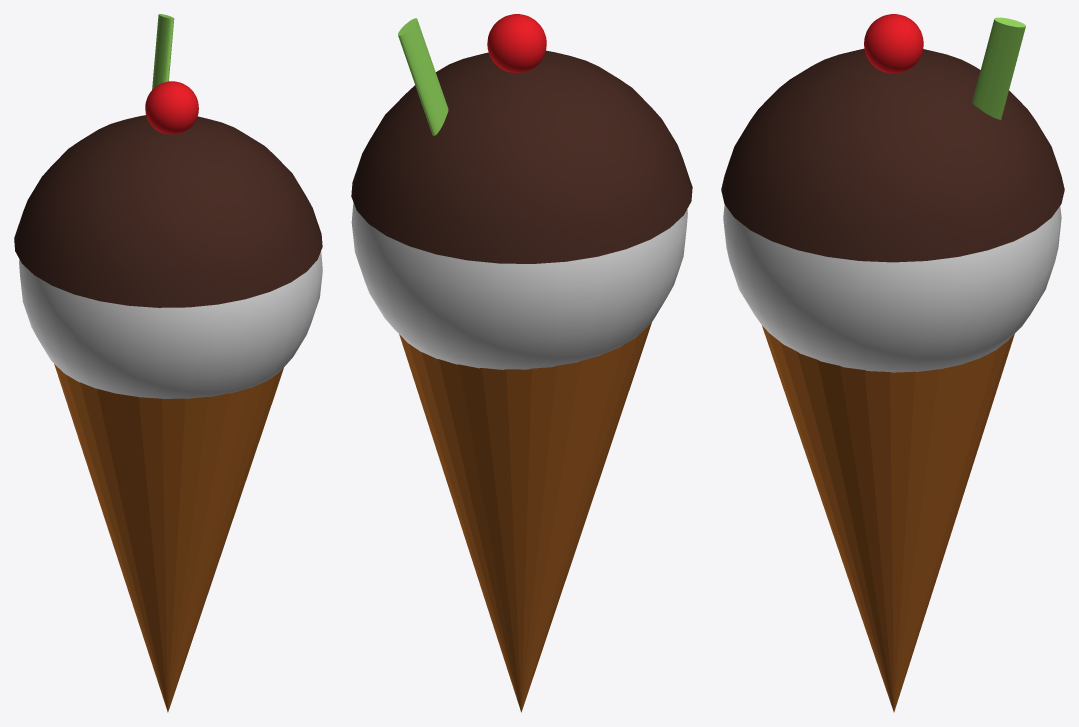
File: Health.fbx
3 views of the same model, side by side, from view 1: azimuth 30°, elevation 25°; view 2: azimuth 150°, elevation 25°; view 3: azimuth 270°, elevation 25° (orthographic). The views are drawn at different scales.
Parts seen in each view (by area): view 1: Sphere.001, Cone, Sphere, Sphere.002, Cylinder; view 2: Sphere.001, Cone, Sphere, Sphere.002, Cylinder; view 3: Sphere.001, Cone, Sphere, Cylinder, Sphere.002.
Boxes of the visible parts, box(x1,y1,x2,y2) form: Sphere.001: box(14, 115, 322, 307); Cone: box(54, 364, 283, 712); Sphere: box(19, 252, 322, 398); Sphere.002: box(145, 81, 198, 134); Cylinder: box(152, 14, 174, 89); Sphere.001: box(351, 50, 692, 263); Cone: box(399, 322, 651, 712); Sphere: box(351, 202, 687, 369); Sphere.002: box(487, 14, 546, 72); Cylinder: box(398, 18, 448, 135); Sphere.001: box(721, 48, 1064, 262); Cone: box(762, 326, 1014, 712); Sphere: box(723, 204, 1061, 372); Cylinder: box(972, 17, 1025, 119); Sphere.002: box(864, 14, 923, 73).
Bounding box in the file's own units: 25.38 × 58.74 × 25.36.
